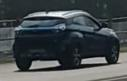Car: (13, 11, 121, 72)
